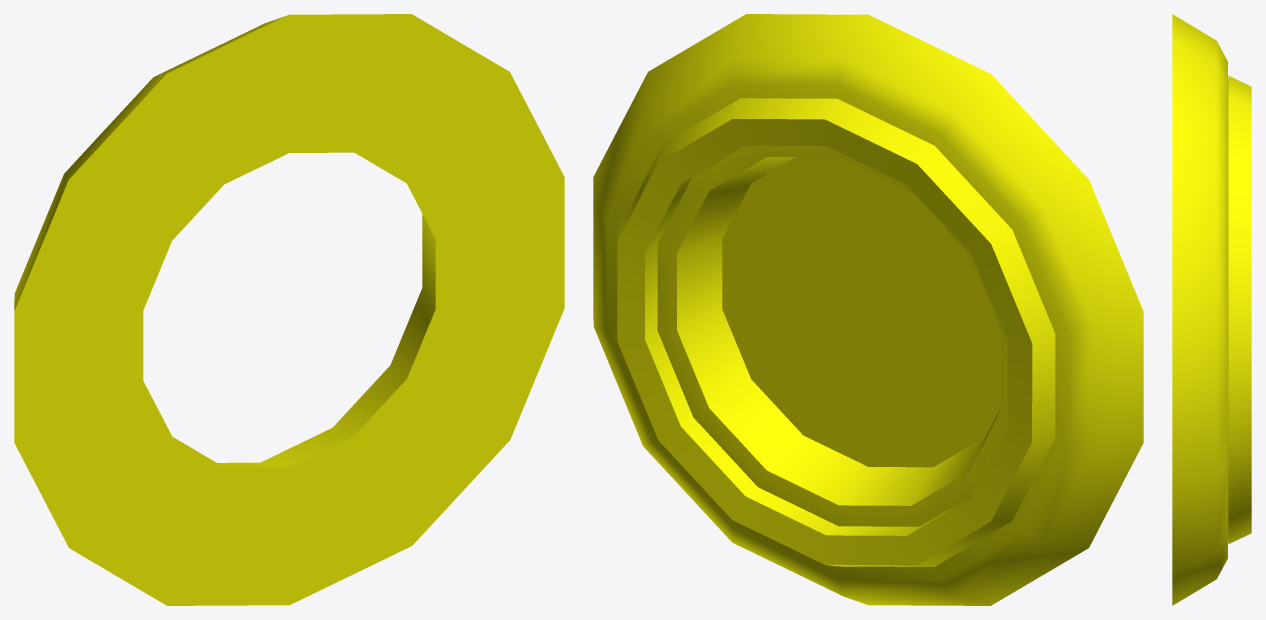
The picture shows the model from 3 angles, left to right: view 1: azimuth 30°, elevation 25°; view 2: azimuth 150°, elevation 25°; view 3: azimuth 270°, elevation 25°; orthographic projection. The views are drawn at different scales.
Parts seen in each view (by area): view 1: bulletportal_exit; view 2: bulletportal_exit; view 3: bulletportal_exit.
Part boxes in pixels (bbox=[...]): bulletportal_exit: bbox=[14, 14, 564, 605]; bulletportal_exit: bbox=[593, 14, 1143, 605]; bulletportal_exit: bbox=[1172, 14, 1251, 605].
Bounding box in the file's own units: 0.00937 × 0.00961 × 0.00129.
Materials: 1 (1 with a texture image).
